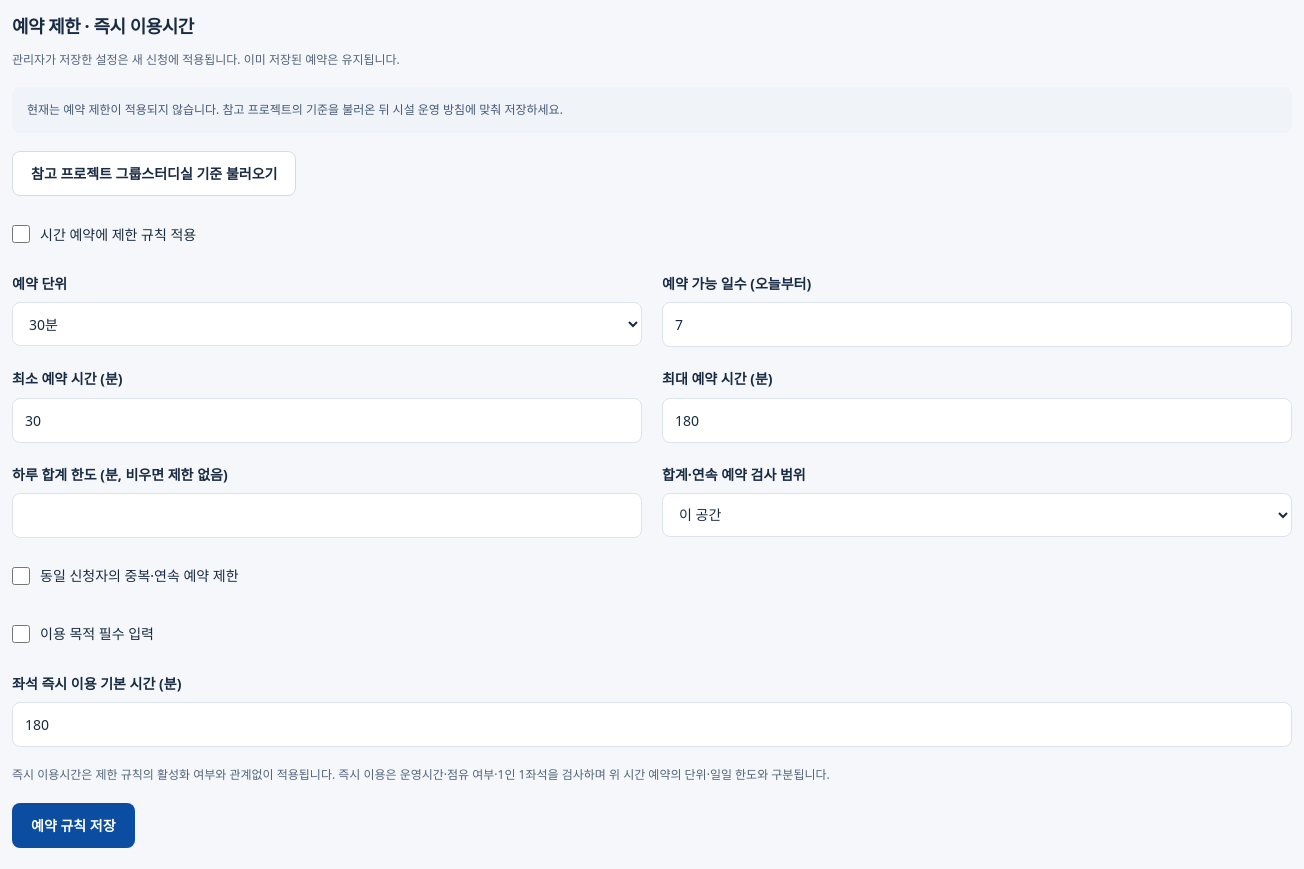
Test case: reference booking and operations features › loads reference limits as an editable preset and persists only on save
The width and height of the screenshot is (1304, 869).
Click the button "참고 프로젝트 그룹스터디실 기준 불러오기": (154, 174) [12,151,296,196]
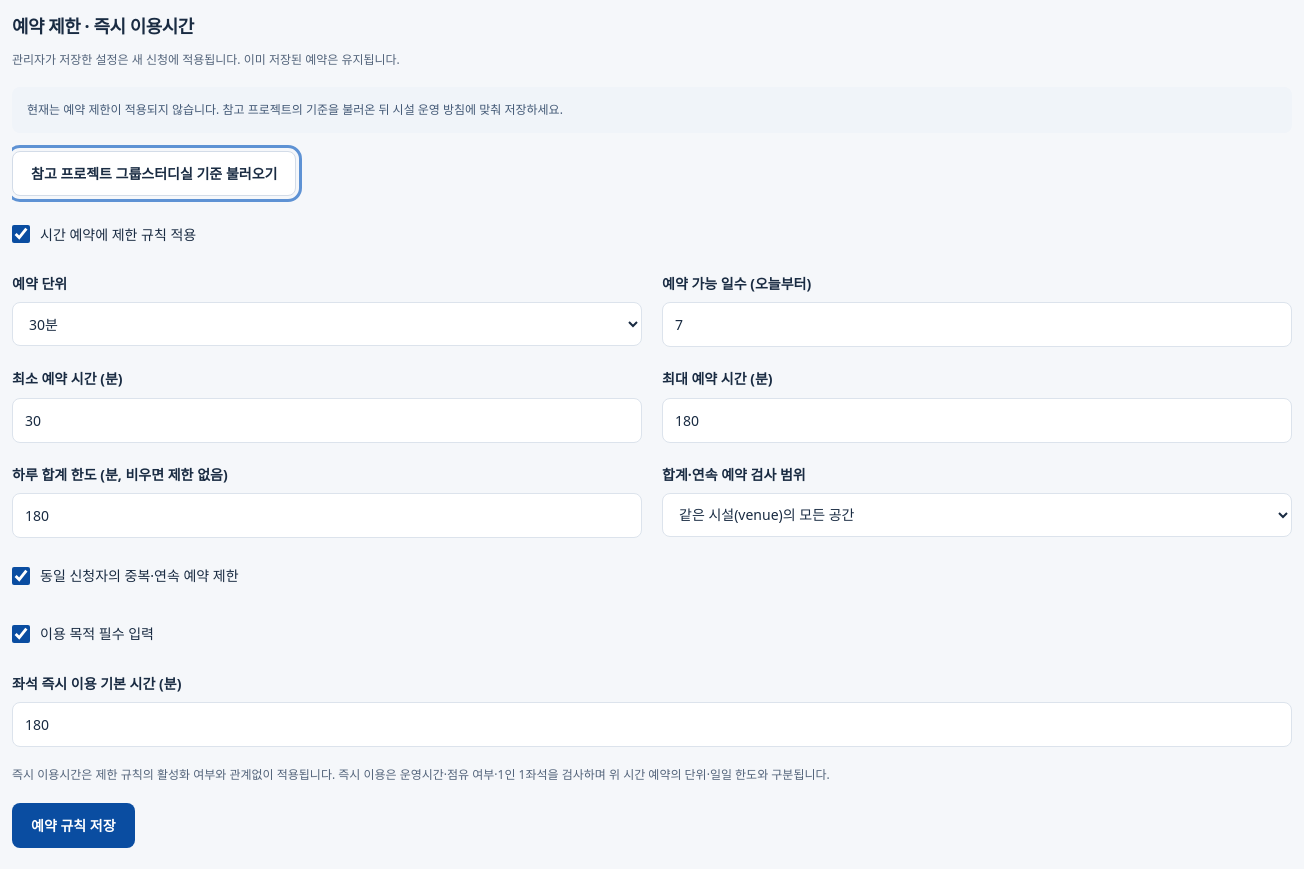
Click the button "예약 규칙 저장": (73, 825) [12,803,135,848]
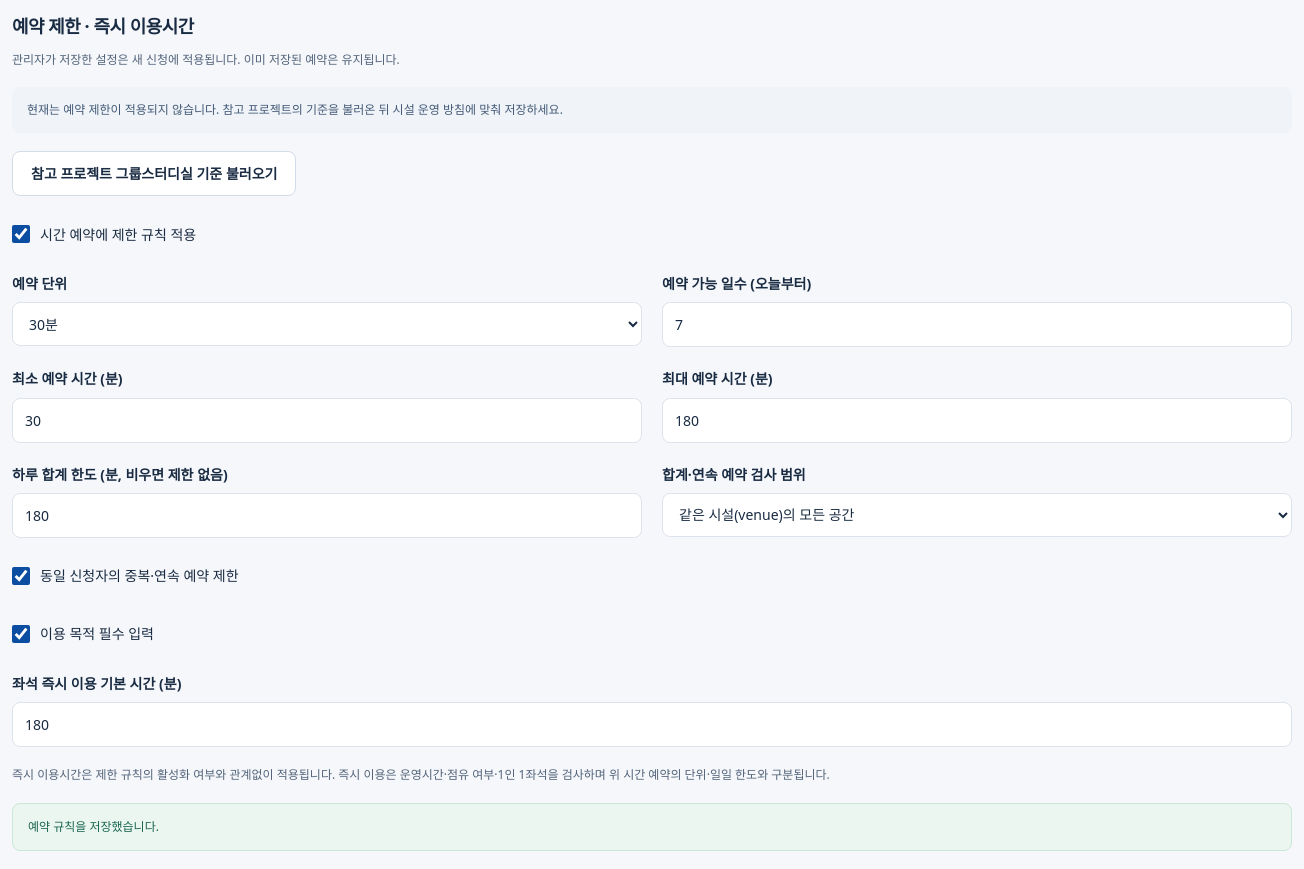
Result: the text "예약 규칙을 저장했습니다." is shown at [12,803,1292,851]
